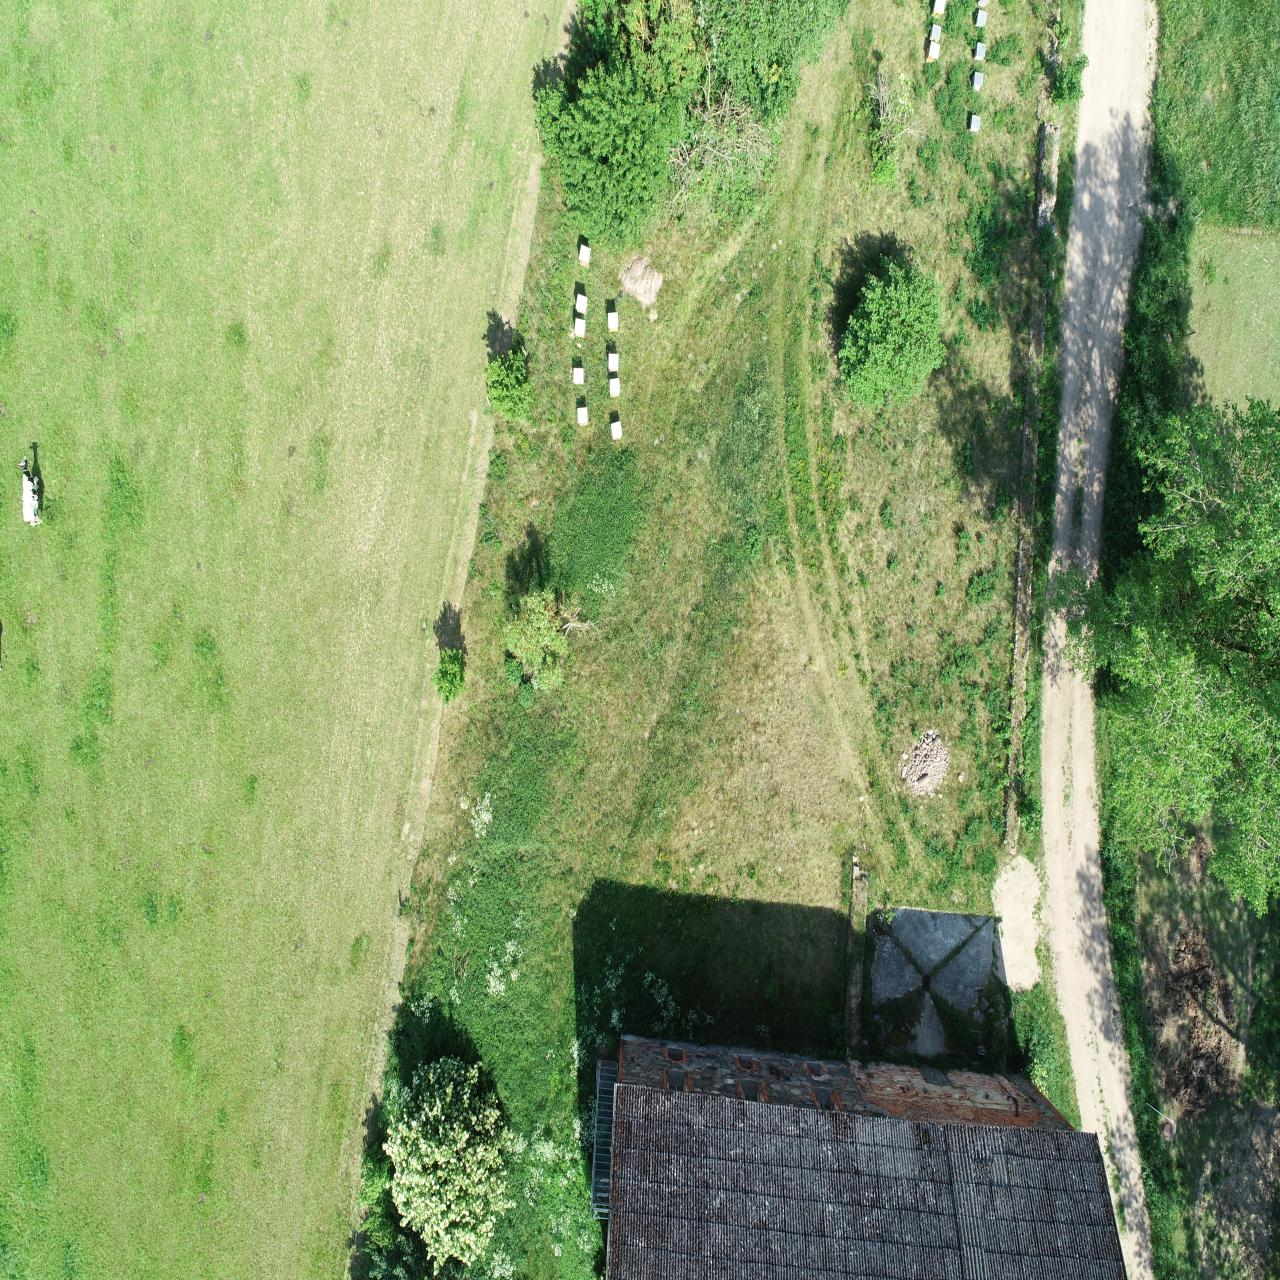cow: (18, 455, 45, 526)
